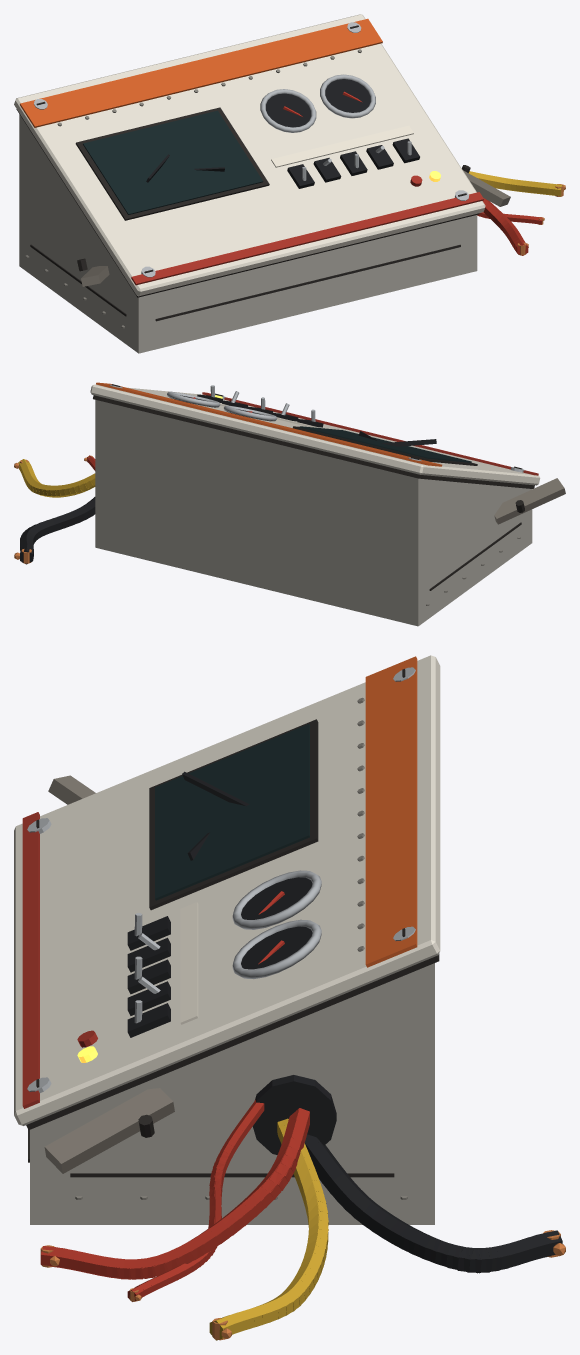
The model's file is pod_console.glb.
The picture shows the model from 3 angles, top to bottom: view 1: azimuth 30°, elevation 25°; view 2: azimuth 150°, elevation 25°; view 3: azimuth 270°, elevation 25°; orthographic projection. The views are drawn at different scales.
Parts seen in each view (by area): view 1: pod_console; view 2: pod_console; view 3: pod_console.
Boxes of the visible parts, box(x1,y1,x2,y2) form: pod_console: box(14, 14, 565, 353); pod_console: box(14, 382, 565, 626); pod_console: box(14, 655, 565, 1340).
Size of the model in its own units: 1.69 by 0.5228 by 0.8996.
